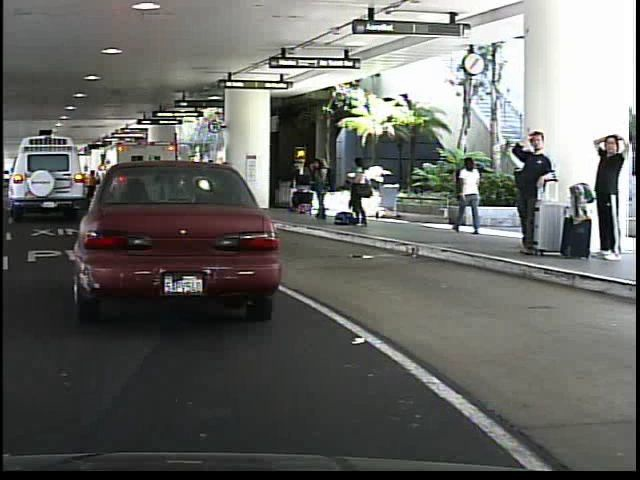person: (507, 124, 554, 257), (586, 124, 626, 264), (447, 154, 487, 235), (342, 156, 369, 228)
